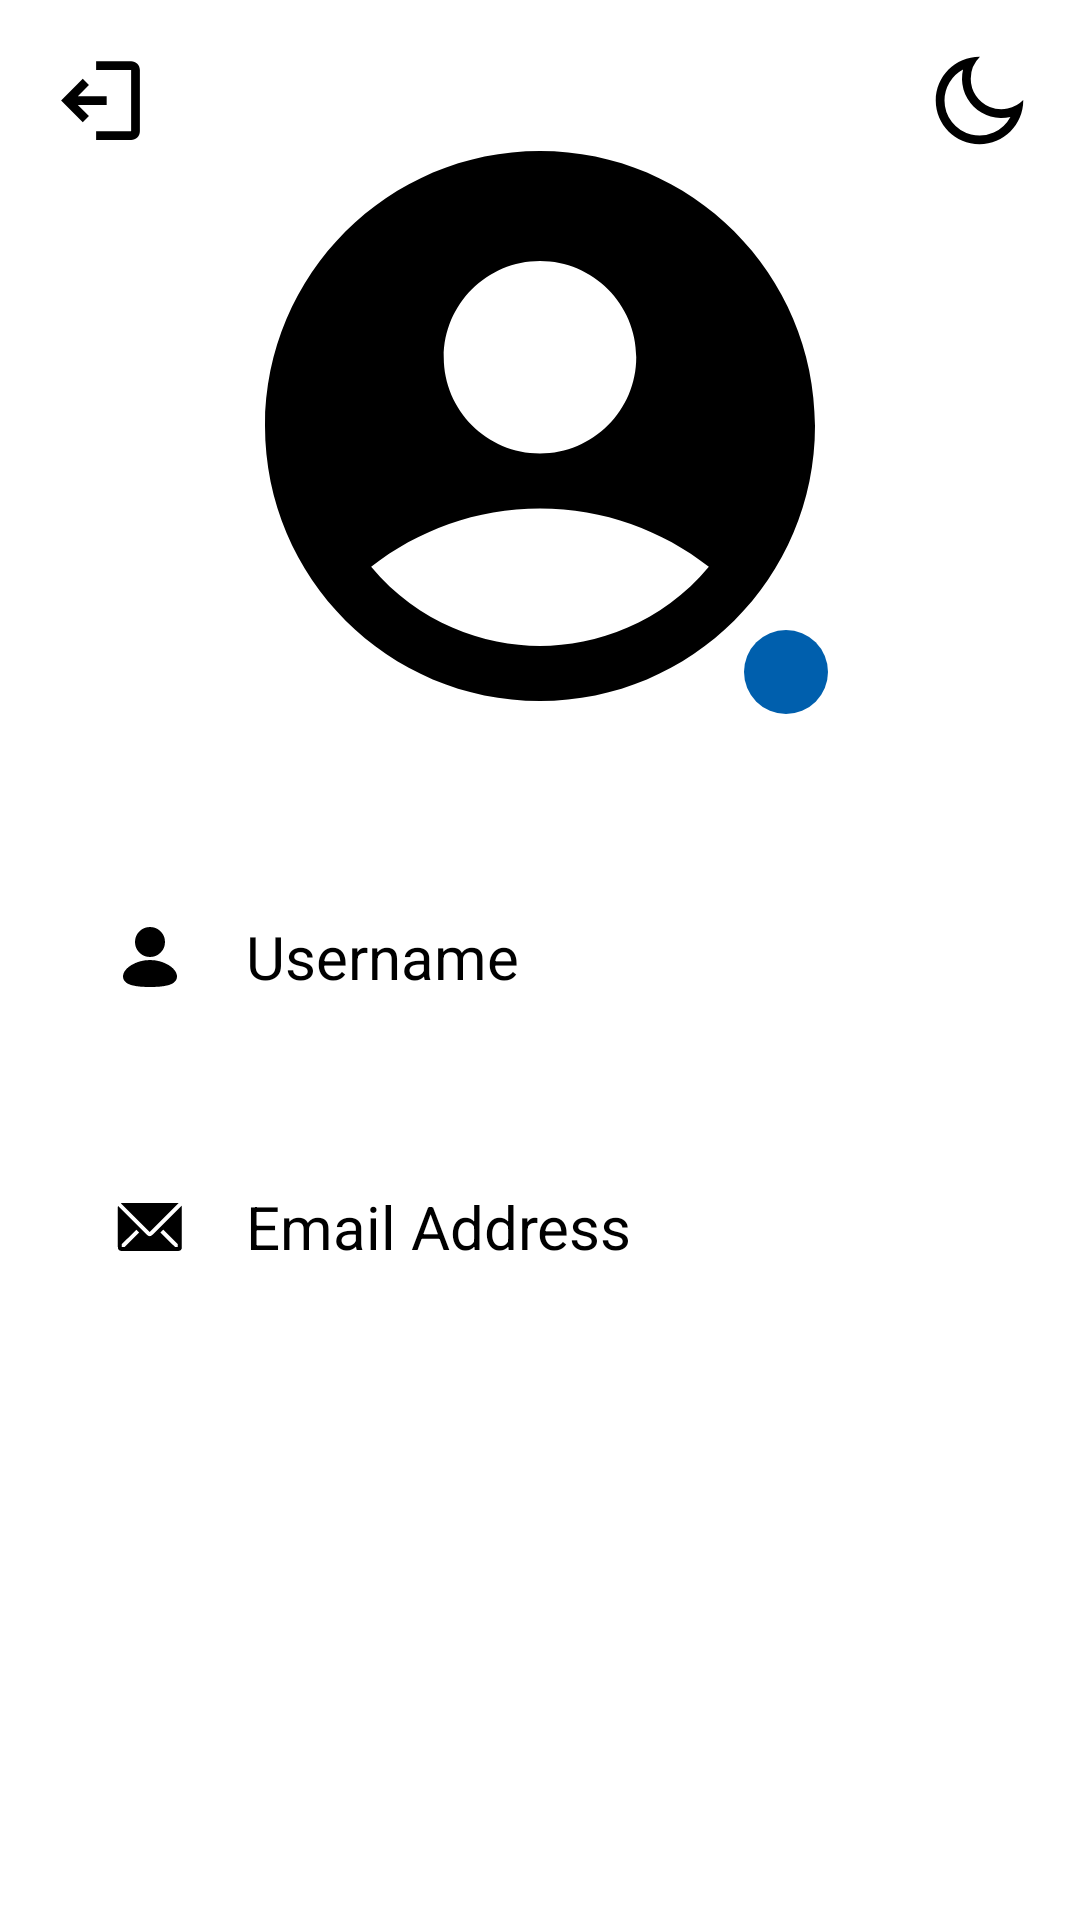

Icons on this 1080 x 1920 Android screen, each with its box as box(x1, y1, x2, y2):
theme: box(935, 56, 1024, 145)
